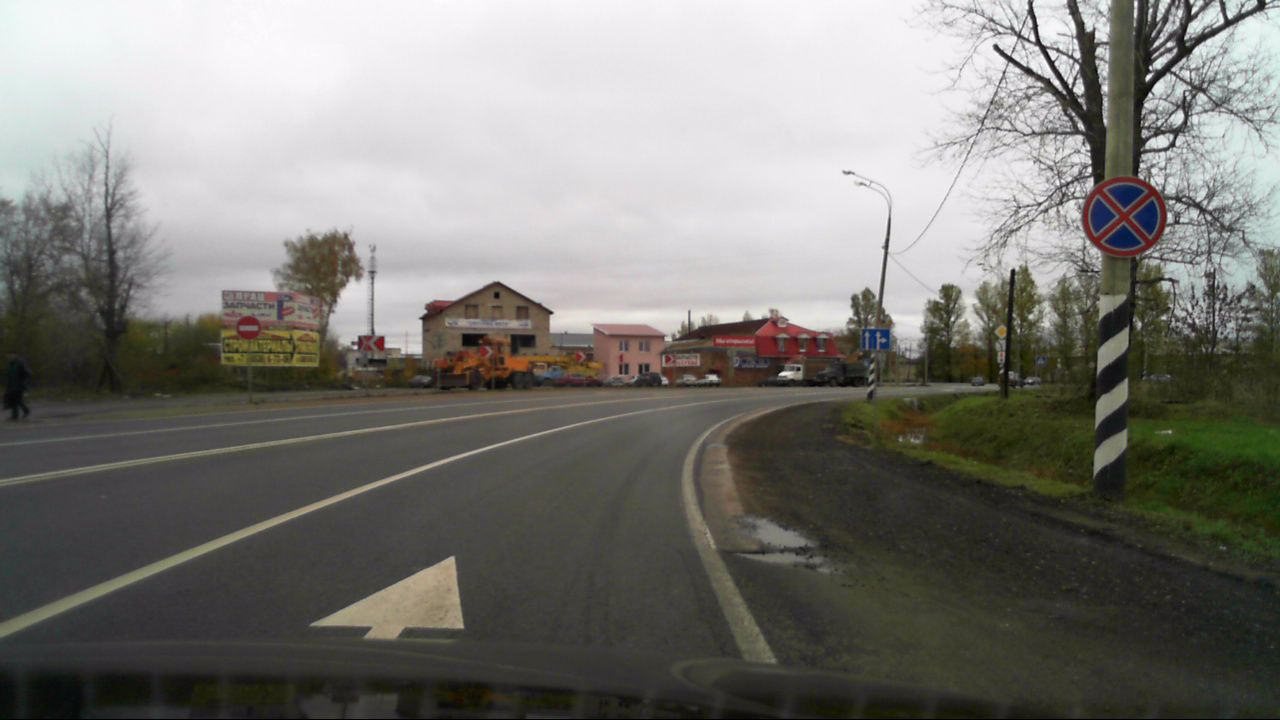No Parking: (1084, 176, 1165, 257)
